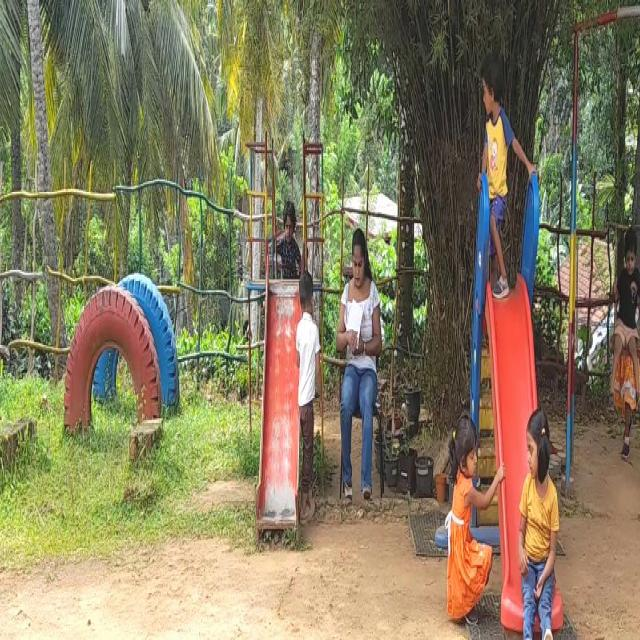adult: (335, 205, 387, 511)
child: (512, 398, 560, 640), (472, 49, 519, 285), (443, 399, 492, 616), (602, 217, 640, 409), (295, 268, 321, 508)
